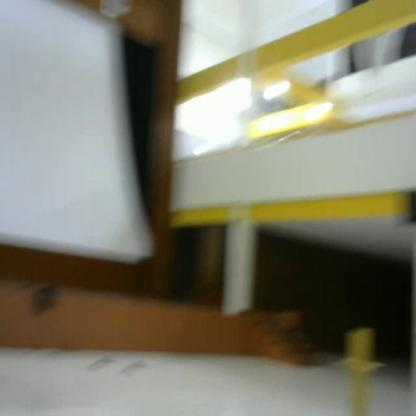pole: (334, 327, 386, 416)
